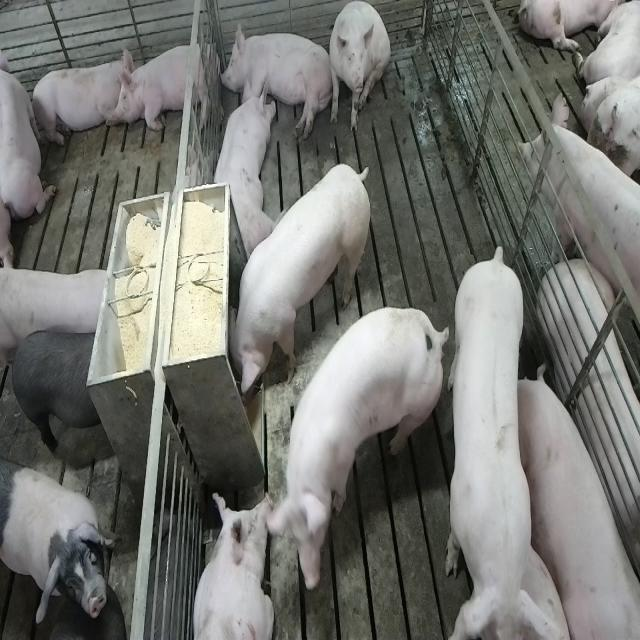Feeding: (229, 162, 376, 400)
Lateral_lying: (540, 263, 640, 606), (218, 20, 334, 141)
Sitting: (327, 2, 390, 134)
Standing: (258, 304, 448, 594), (442, 246, 562, 640), (520, 95, 640, 345), (2, 464, 116, 624), (8, 325, 108, 464), (2, 269, 118, 371)
Sternal_lying: (191, 490, 276, 640), (210, 73, 274, 259), (3, 36, 55, 231), (29, 51, 130, 149), (117, 36, 215, 135)
